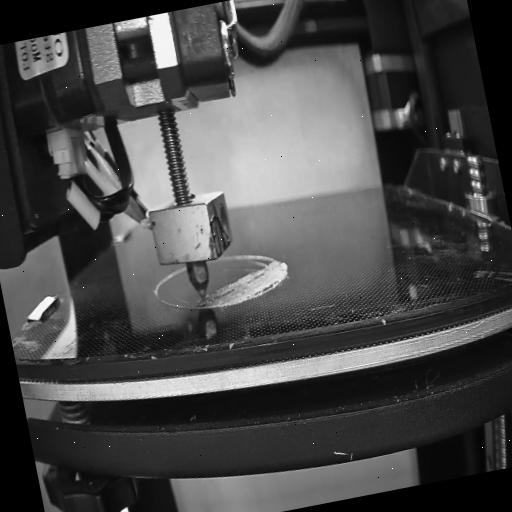under_extrusion: (234, 246, 278, 282), (240, 275, 288, 307), (202, 284, 242, 311)
